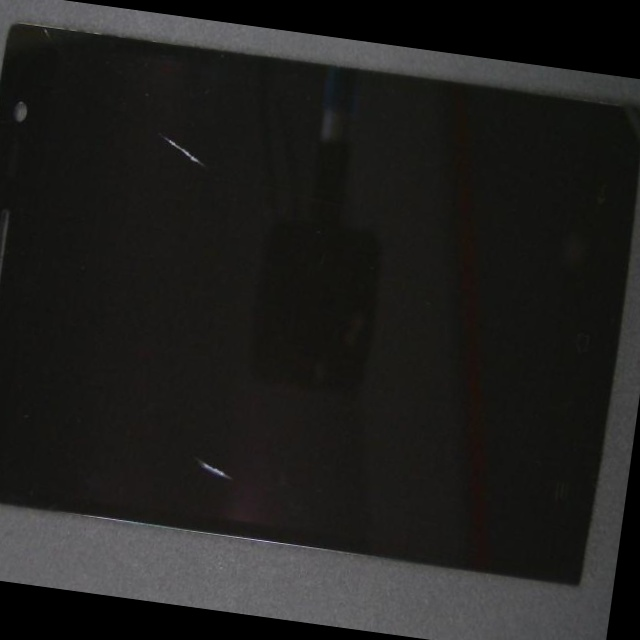scratch: (88, 259, 402, 630), (113, 102, 313, 224)
